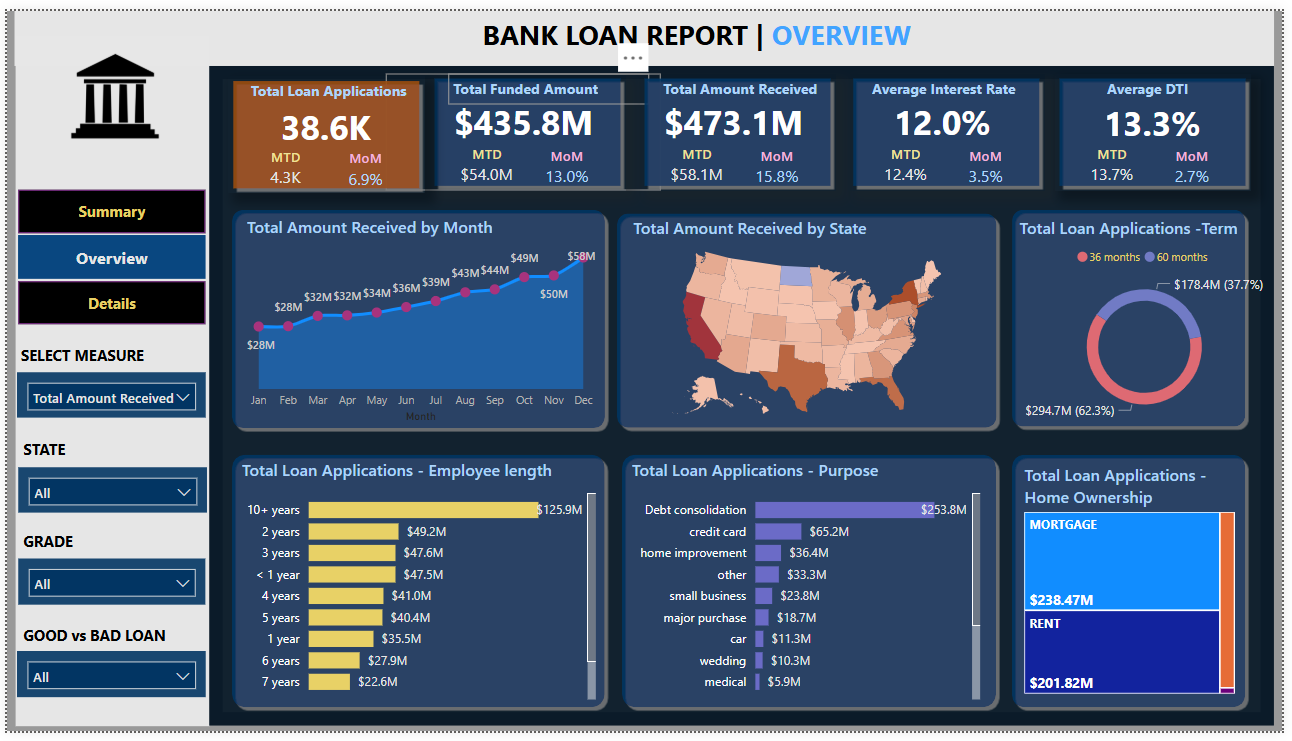

What the dashboard file says about the page in this screenshot:
{"tool":"powerbi","page":{"name":"Overview","canvas":[1260,712],"ordinal":1},"visuals":[{"type":"shape","box":[8.6,24.3,191.4,681.4],"z":0},{"type":"shape","box":[624.2,61.5,194.2,116.3],"z":0,"group":"g2"},{"type":"shape","box":[831.2,61.5,194.2,116.3],"z":0,"group":"g3"},{"type":"shape","box":[1034.2,61.5,194.2,116.3],"z":0,"group":"g4"},{"type":"shape","box":[417.2,62.2,194.2,116.3],"z":0,"group":"g1"},{"type":"shape","box":[217.9,64.1,194.2,116.3],"z":0,"group":"g5"},{"type":"shape","box":[7.1,0,1244.3,54.3],"z":1000},{"type":"card","fields":{"Values":["bank_loan_data.Total Amount Received"]},"box":[580.9,88.8,272,42],"z":1000,"group":"g2"},{"type":"card","fields":{"Values":["bank_loan_data.Average Interest Rate"]},"box":[787.9,88.8,272,42],"z":1000,"group":"g3"},{"type":"card","fields":{"Values":["bank_loan_data.Total Funded Amount"]},"box":[373.9,89.5,272,42],"z":1000,"group":"g1"},{"type":"card","fields":{"Values":["bank_loan_data.avg dti"]},"box":[994.9,90.5,272,42],"z":1000,"group":"g4"},{"type":"card","fields":{"Values":["bank_loan_data.Total Loan Applications"]},"box":[178.6,93.1,272,42],"z":1000,"group":"g5"},{"type":"textbox","box":[1080.9,61.5,199,31],"z":2000,"group":"g4"},{"type":"textbox","box":[642.9,61.8,199,31],"z":2000,"group":"g2"},{"type":"textbox","box":[849.9,61.8,199,31],"z":2000,"group":"g3"},{"type":"textbox","box":[435.9,62.5,199,31],"z":2000,"group":"g1"},{"type":"textbox","box":[234.9,63.9,198.6,31.4],"z":2000,"group":"g5"},{"type":"textbox","box":[247.4,192.3,198.7,30.8],"z":2000},{"type":"textbox","box":[274.3,0,814.3,54.3],"z":3000},{"type":"card","title":"MTD","fields":{"Values":["bank_loan_data.MTD Total Amount Received"]},"box":[638.2,131.9,86.7,45.3],"z":3000,"group":"g2"},{"type":"card","title":"MTD","fields":{"Values":["bank_loan_data.MTD Average Interest Rate"]},"box":[845.2,131.9,86.7,45.3],"z":3000,"group":"g3"},{"type":"card","title":"MTD","fields":{"Values":["bank_loan_data.MTD Avg Dti"]},"box":[1048.2,131.9,86.7,45.3],"z":3000,"group":"g4"},{"type":"card","title":"MTD","fields":{"Values":["bank_loan_data.MTD Funded Amount"]},"box":[431.2,132.6,86.7,45.3],"z":3000,"group":"g1"},{"type":"card","title":"MTD","fields":{"Values":["bank_loan_data.MTD Loan Applications"]},"box":[231.9,134.5,86.7,45.3],"z":3000,"group":"g5"},{"type":"shape","box":[200,54.1,1051.4,651.4],"z":4000},{"type":"card","title":"MoM","fields":{"Values":["bank_loan_data.MoM Total Amount Received"]},"box":[727.6,132.8,64,44],"z":4000,"group":"g2"},{"type":"card","title":"MoM","fields":{"Values":["bank_loan_data.MoM Avg Interest Rate"]},"box":[934.6,132.8,64,44],"z":4000,"group":"g3"},{"type":"card","title":"MoM","fields":{"Values":["bank_loan_data.MoM Avg dti"]},"box":[1137.6,132.8,64,44],"z":4000,"group":"g4"},{"type":"card","title":"MoM","fields":{"Values":["bank_loan_data.MoM Total Funded Amount"]},"box":[520.6,133.5,64,44],"z":4000,"group":"g1"},{"type":"card","title":"MoM","fields":{"Values":["bank_loan_data.MoM Loan Applications"]},"box":[321.3,135.4,64,44],"z":4000,"group":"g5"},{"type":"group","id":"g1","title":"Group 1","box":[373.9,62.2,271.8,115.4],"z":5000},{"type":"group","id":"g2","title":"Group 1","box":[580.9,61.5,271.8,116.7],"z":6000},{"type":"group","id":"g3","title":"Group 1","box":[787.9,61.5,271.8,116.7],"z":7000},{"type":"group","id":"g4","title":"Group 1","box":[994.9,61.5,284.6,116.7],"z":8000},{"type":"group","id":"g5","title":"Group 1","box":[178.6,63.9,272,116.5],"z":9000},{"type":"shape","box":[217.6,191.9,378.4,225.7],"z":10000},{"type":"slicer","fields":{"Values":["bank_loan_data.address_state"]},"box":[10.8,450,186.5,44.6],"z":11000},{"type":"textbox","box":[10.8,417.6,64.9,32.4],"z":12000},{"type":"slicer","fields":{"Values":["bank_loan_data.grade"]},"box":[10.8,540.5,185.1,45.9],"z":13000},{"type":"textbox","box":[10.8,508.1,75.7,32.4],"z":14000},{"type":"textbox","box":[10.8,601.4,185.1,31.1],"z":15000},{"type":"slicer","fields":{"Values":["bank_loan_data.Good vs Bad Loan"]},"box":[9.5,632.4,186.5,45.9],"z":16000},{"type":"areaChart","fields":{"Y":["bank_loan_data.Total Amount Received"],"Category":["Date Table.Month"]},"box":[232.4,201.4,354.1,209.5],"z":17000},{"type":"slicer","fields":{"Values":["Select Measure.Select Measure"]},"box":[9.5,356.8,186.5,44.6],"z":18000},{"type":"textbox","box":[8.1,324.3,155.4,32.4],"z":19000},{"type":"shape","box":[597.3,194.6,385.1,221.6],"z":20000},{"type":"shapeMap","fields":{"Value":["bank_loan_data.Total Amount Received"],"Category":["bank_loan_data.Address_State"]},"box":[613.5,202.7,352.7,209.5],"z":21000},{"type":"shape","box":[987.8,191.9,240.5,224.3],"z":22000},{"type":"donutChart","title":"Total Loan Applications -Term","fields":{"Y":["bank_loan_data.Total Amount Received"],"Category":["bank_loan_data.term"]},"box":[994.6,202.7,256.8,209.5],"z":23000},{"type":"shape","box":[217.6,433.8,378.4,259.5],"z":24000},{"type":"barChart","title":"Total Loan Applications - Employee length","fields":{"Y":["bank_loan_data.Total Amount Received"],"Category":["bank_loan_data.emp_length"]},"box":[227,441.9,359.5,243.2],"z":25000},{"type":"shape","box":[602.7,433.8,379.7,259.5],"z":26000},{"type":"barChart","title":"Total Loan Applications - Purpose","fields":{"Y":["bank_loan_data.Total Amount Received"],"Category":["bank_loan_data.purpose"]},"box":[612.2,441.9,354.1,243.2],"z":27000},{"type":"shape","box":[987.8,433.8,240.5,259.5],"z":28000},{"type":"treemap","title":"Total Loan Applications - Home Ownership","fields":{"Values":["bank_loan_data.Total Amount Received"],"Group":["bank_loan_data.home_ownership"]},"box":[1000,447.3,217.6,232.4],"z":29000},{"type":"image","box":[35.1,1.4,143.2,175.7],"z":30000},{"type":"pageNavigator","box":[10.8,177,185.1,135.1],"z":31000}]}

Visuals, with their boxes in screenshot pixels (x1, y1, x2, y2), scaled from the page's 1260x712 canvas onto the 1292x741 screenshot:
shape: locate(9, 25, 205, 734)
shape: locate(640, 64, 839, 185)
shape: locate(852, 64, 1051, 185)
shape: locate(1060, 64, 1260, 185)
shape: locate(428, 65, 627, 186)
shape: locate(223, 67, 423, 188)
shape: locate(7, 0, 1283, 57)
card - bank_loan_data.Total Amount Received: locate(596, 92, 875, 136)
card - bank_loan_data.Average Interest Rate: locate(808, 92, 1087, 136)
card - bank_loan_data.Total Funded Amount: locate(383, 93, 662, 137)
card - bank_loan_data.avg dti: locate(1020, 94, 1291, 138)
card - bank_loan_data.Total Loan Applications: locate(183, 97, 462, 141)
textbox: locate(1108, 64, 1291, 96)
textbox: locate(659, 64, 863, 97)
textbox: locate(871, 64, 1076, 97)
textbox: locate(447, 65, 651, 97)
textbox: locate(241, 67, 445, 99)
textbox: locate(254, 200, 457, 232)
textbox: locate(281, 0, 1116, 57)
"MTD" card: locate(654, 137, 743, 184)
"MTD" card: locate(867, 137, 956, 184)
"MTD" card: locate(1075, 137, 1164, 184)
"MTD" card: locate(442, 138, 531, 185)
"MTD" card: locate(238, 140, 327, 187)
shape: locate(205, 56, 1283, 734)
"MoM" card: locate(746, 138, 812, 184)
"MoM" card: locate(958, 138, 1024, 184)
"MoM" card: locate(1166, 138, 1232, 184)
"MoM" card: locate(534, 139, 599, 185)
"MoM" card: locate(329, 141, 395, 187)
"Group 1" group: locate(383, 65, 662, 185)
"Group 1" group: locate(596, 64, 874, 185)
"Group 1" group: locate(808, 64, 1087, 185)
"Group 1" group: locate(1020, 64, 1291, 185)
"Group 1" group: locate(183, 67, 462, 188)
shape: locate(223, 200, 611, 435)
slicer - bank_loan_data.address_state: locate(11, 468, 202, 515)
textbox: locate(11, 435, 78, 468)
slicer - bank_loan_data.grade: locate(11, 563, 201, 610)
textbox: locate(11, 529, 89, 563)
textbox: locate(11, 626, 201, 658)
slicer - bank_loan_data.Good vs Bad Loan: locate(10, 658, 201, 706)
areaChart - bank_loan_data.Total Amount Received x Date Table.Month: locate(238, 210, 601, 428)
slicer - Select Measure.Select Measure: locate(10, 371, 201, 418)
textbox: locate(8, 338, 168, 371)
shape: locate(612, 203, 1007, 433)
shapeMap - bank_loan_data.Total Amount Received x bank_loan_data.Address_State: locate(629, 211, 991, 429)
shape: locate(1013, 200, 1259, 433)
"Total Loan Applications -Term" donutChart: locate(1020, 211, 1283, 429)
shape: locate(223, 451, 611, 722)
"Total Loan Applications - Employee length" barChart: locate(233, 460, 601, 713)
shape: locate(618, 451, 1007, 722)
"Total Loan Applications - Purpose" barChart: locate(628, 460, 991, 713)
shape: locate(1013, 451, 1259, 722)
"Total Loan Applications - Home Ownership" treemap: locate(1025, 466, 1249, 707)
image: locate(36, 1, 183, 184)
pageNavigator: locate(11, 184, 201, 325)
